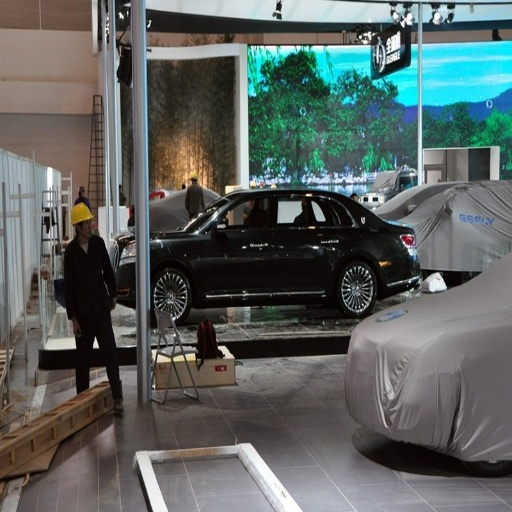back_left_door: (277, 193, 342, 265)
